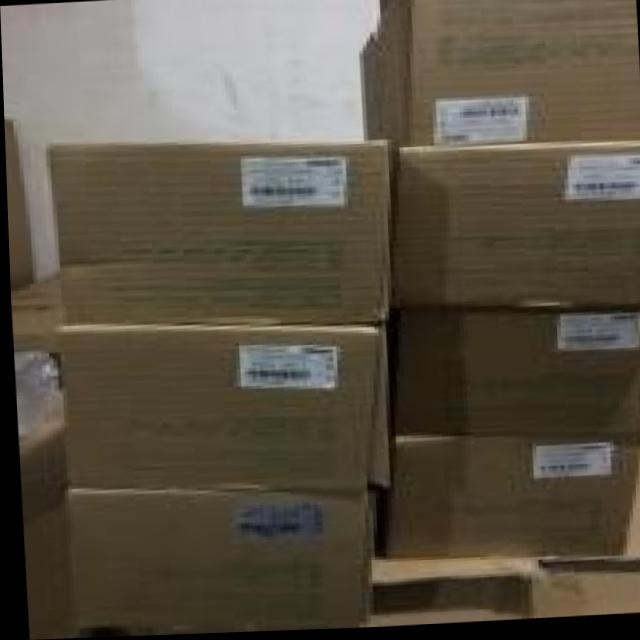box: (44, 142, 389, 326), (52, 323, 386, 490), (64, 486, 371, 627), (386, 145, 640, 313), (358, 0, 640, 151), (370, 439, 640, 562), (388, 311, 640, 439)
